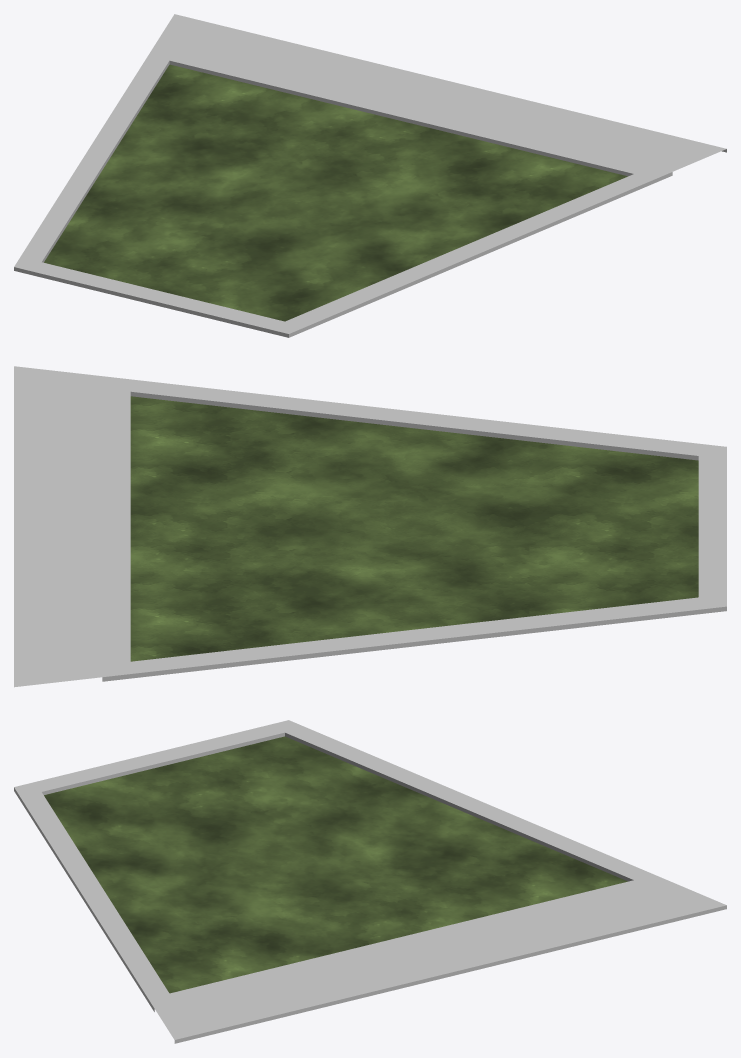
File: SM_Garden.fbx
3 views of the same model, one above another, from view 1: azimuth 30°, elevation 25°; view 2: azimuth 150°, elevation 25°; view 3: azimuth 270°, elevation 25° (orthographic). The views are drawn at different scales.
Parts seen in each view (by area): view 1: Garden; view 2: Garden; view 3: Garden.
Boxes of the visible parts, x1,y1,x2,y2 form: Garden: (14,14,726,337); Garden: (14,366,726,687); Garden: (14,720,726,1043).
Bounding box in the file's own units: 1442 × 8.01 × 1357.
